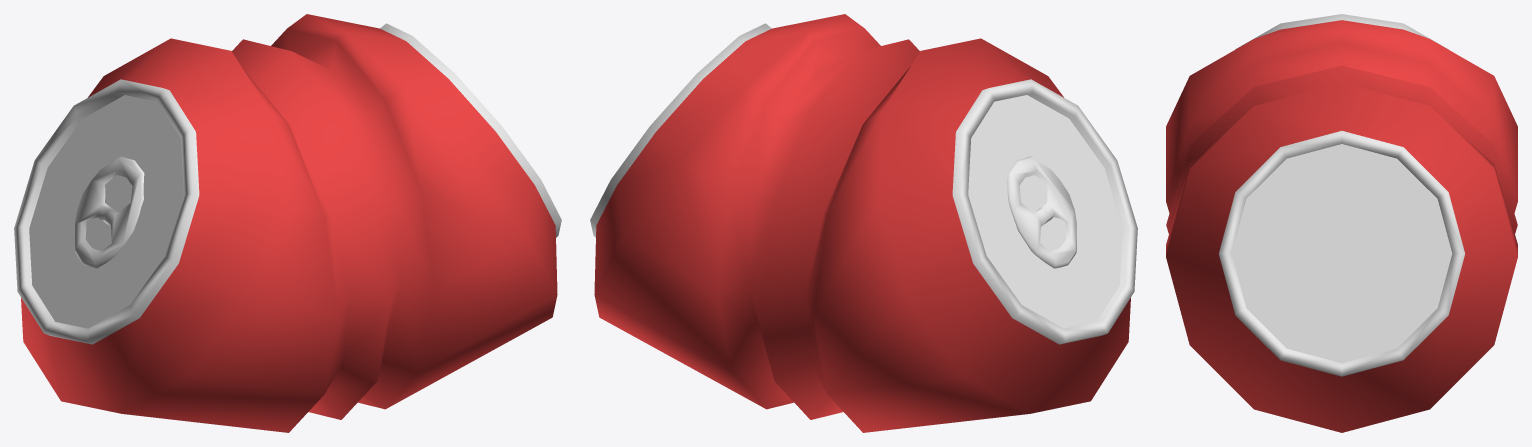
File: soda-can.glb
3 renders of one model, left to right at view 1: azimuth 30°, elevation 25°; view 2: azimuth 150°, elevation 25°; view 3: azimuth 270°, elevation 25°, orthographic. The views are drawn at different scales.
Visible parts, largest first — view 1: Cylinder; view 2: Cylinder; view 3: Cylinder.
Boxes of the visible parts, <box> form: Cylinder: <box>14,14,561,432</box>; Cylinder: <box>590,14,1137,432</box>; Cylinder: <box>1166,14,1517,432</box>.
Bounding box in the file's own units: 0.0947 × 0.069 × 0.0661.
